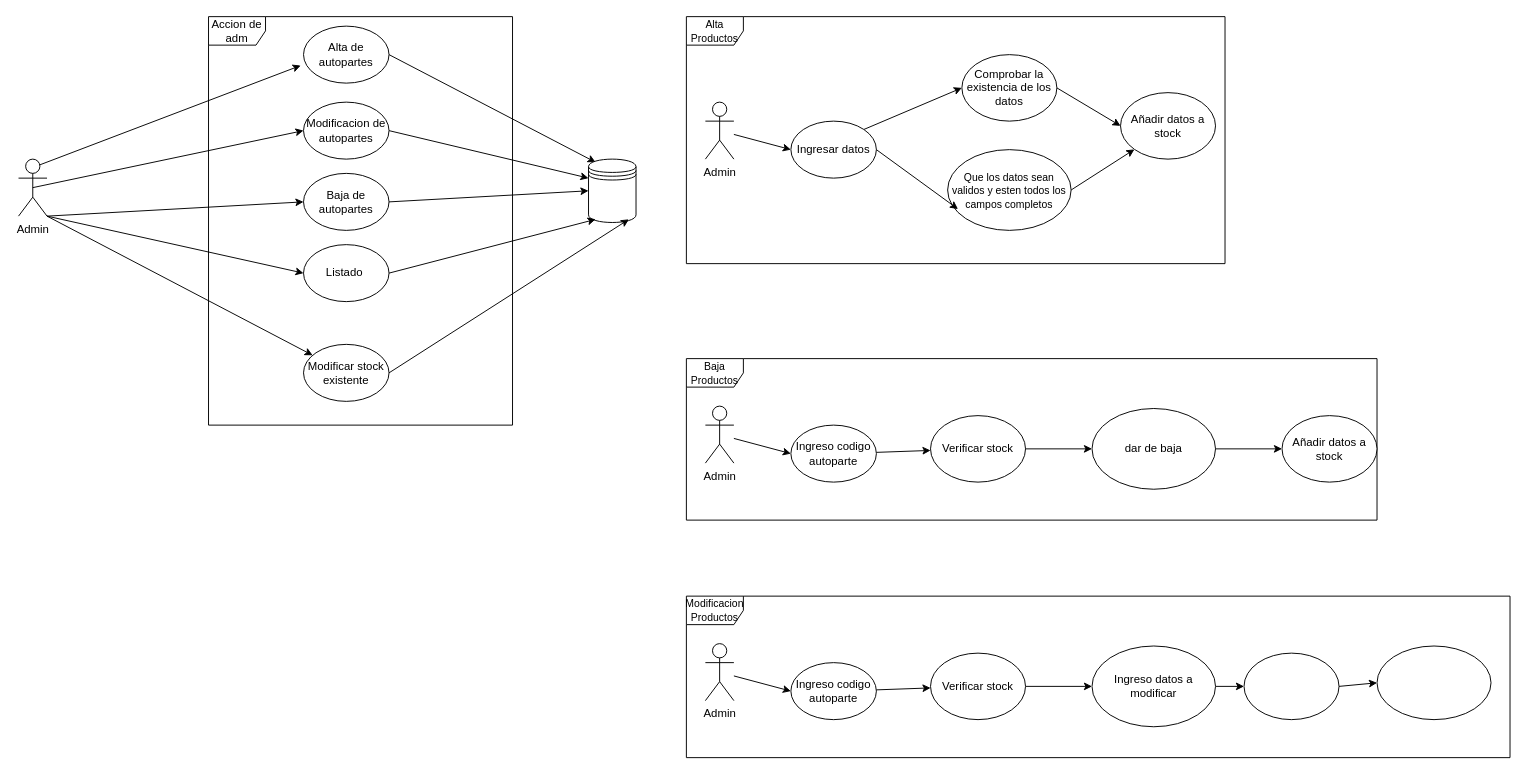
The diagram is 1527 pixels wide and 774 high, and some of its shapes have lost their labels. The centre of each missing label's shape, as x and y in pixels:
"Modifico los datos y los almaceno en stock" goes at pixel 1433 682.
"Stock" goes at pixel 612 190.
"verifico los datos" goes at pixel 1291 686.
